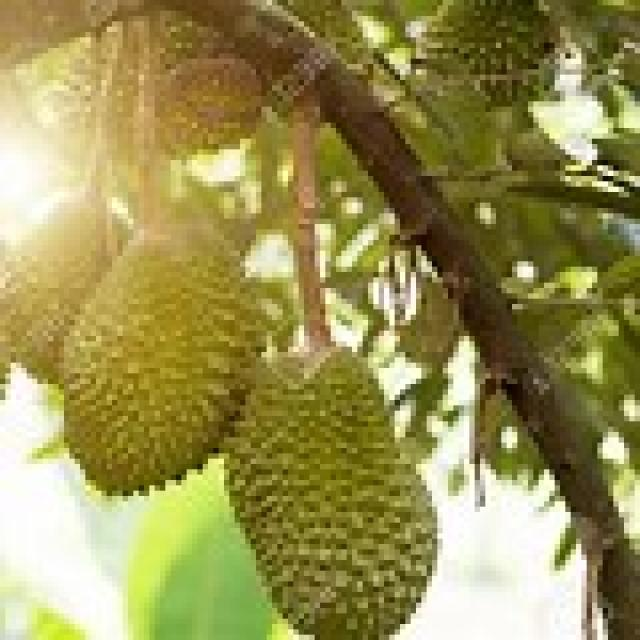immature: (215, 341, 441, 640), (48, 208, 266, 499)
